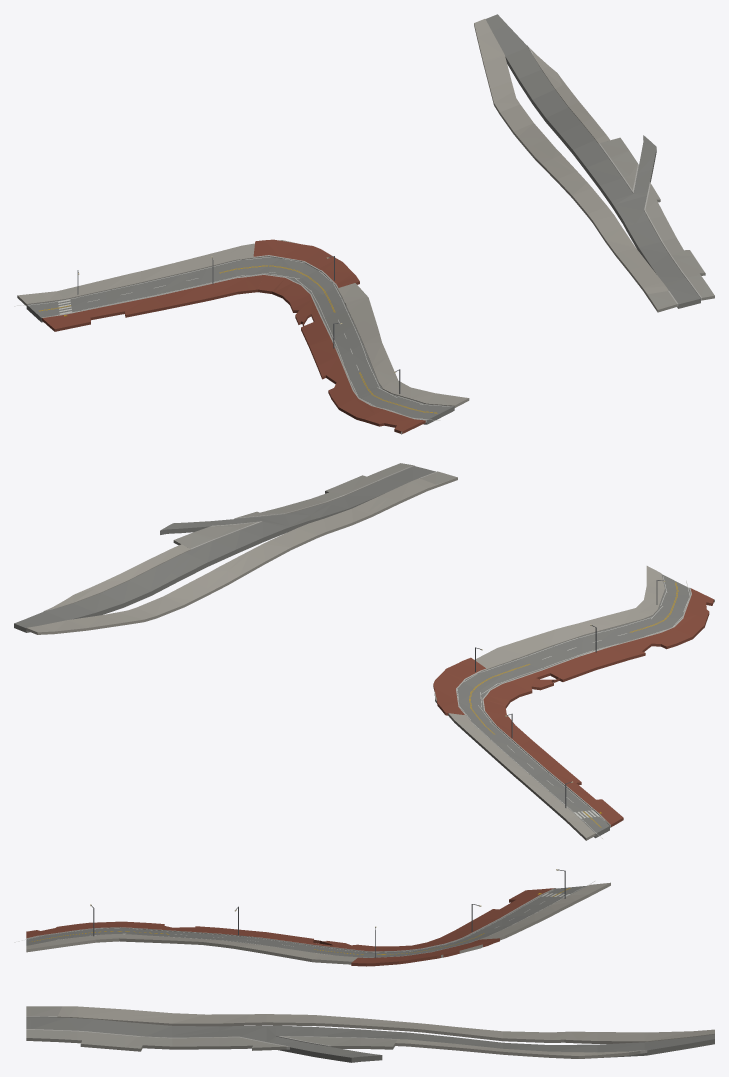
3 views of the same model, one above another, from view 1: azimuth 30°, elevation 25°; view 2: azimuth 150°, elevation 25°; view 3: azimuth 270°, elevation 25° (orthographic). The views are drawn at different scales.
Bounding box in the file's own units: 150 × 34.44 × 148.
